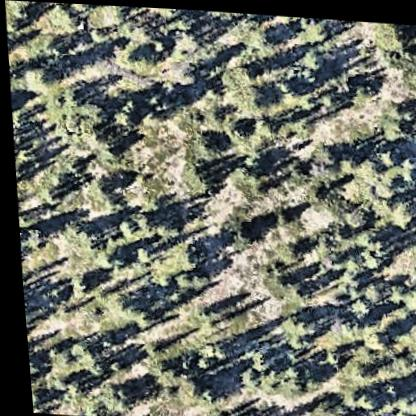tree-top: (188, 162, 253, 199), (59, 84, 104, 128), (298, 136, 340, 181), (120, 44, 162, 82), (270, 306, 312, 341), (91, 378, 129, 416), (266, 359, 303, 396), (219, 214, 256, 250), (225, 161, 262, 195), (44, 4, 82, 37), (177, 162, 213, 196), (78, 174, 113, 208), (373, 18, 412, 48), (246, 22, 281, 55), (382, 191, 415, 225), (178, 377, 211, 409), (334, 196, 367, 228), (341, 338, 375, 369), (43, 162, 70, 199), (270, 234, 302, 265), (147, 211, 181, 240), (188, 129, 220, 159), (20, 61, 51, 91), (297, 14, 330, 42), (239, 81, 269, 111), (378, 111, 407, 140), (62, 338, 92, 366), (395, 313, 416, 351), (136, 355, 168, 379), (223, 119, 250, 146), (340, 294, 369, 319), (179, 265, 208, 290), (346, 384, 374, 409), (297, 43, 323, 69), (110, 105, 135, 130), (65, 272, 89, 298), (232, 58, 259, 81), (356, 279, 380, 304), (397, 282, 416, 311), (144, 88, 168, 109), (112, 216, 131, 239), (155, 6, 182, 20), (405, 60, 416, 87), (67, 3, 91, 15), (414, 362, 416, 391)
